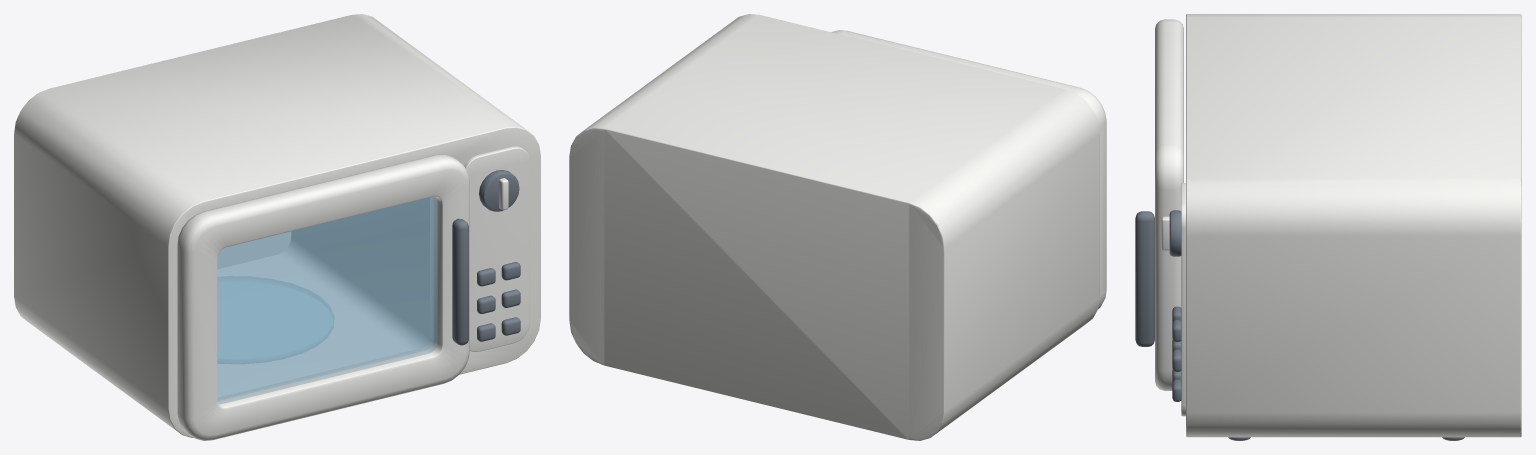
File: micro_ondas_branco.glb
3 views of the same model, side by side, from view 1: azimuth 30°, elevation 25°; view 2: azimuth 150°, elevation 25°; view 3: azimuth 270°, elevation 25° (orthographic). The views are drawn at different scales.
Parts seen in each view (by area): view 1: micro_ondas_branco, porta; view 2: micro_ondas_branco, porta; view 3: micro_ondas_branco, porta.
Boxes of the visible parts, x1,y1,x2,y2 form: micro_ondas_branco: [14, 14, 540, 437]; porta: [177, 154, 469, 440]; micro_ondas_branco: [569, 14, 1099, 440]; porta: [831, 30, 1106, 308]; micro_ondas_branco: [1161, 14, 1521, 440]; porta: [1135, 19, 1183, 390].
Size of the model in its own units: 0.48 by 0.302 by 0.397.
2 materials, 1 textured.
